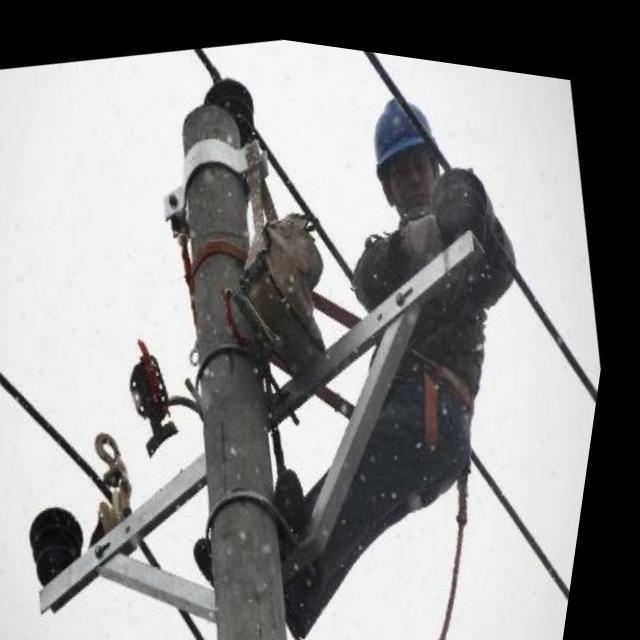belt: (346, 280, 542, 518)
